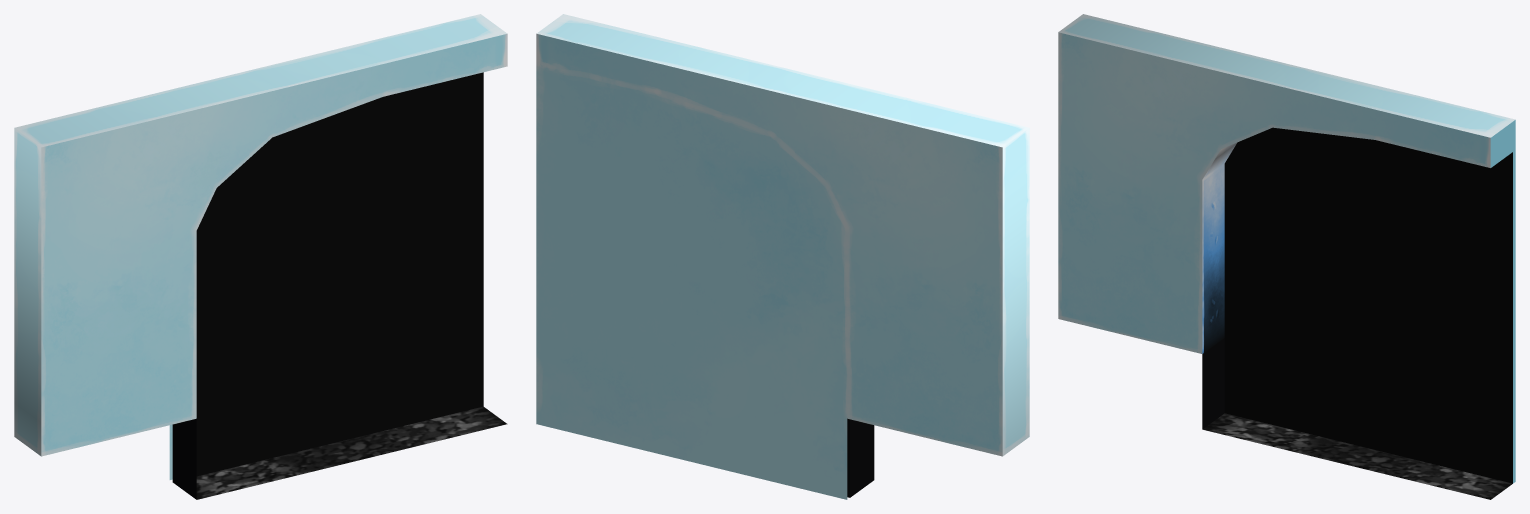
The model's file is tunnel_02.fbx.
The picture shows the model from 3 angles, left to right: view 1: azimuth 30°, elevation 25°; view 2: azimuth 150°, elevation 25°; view 3: azimuth 330°, elevation 25°; orthographic projection. The views are drawn at different scales.
Parts seen in each view (by area): view 1: tunnel; view 2: tunnel; view 3: tunnel.
Boxes of the visible parts, <box> form: tunnel: <box>14,14,507,499</box>; tunnel: <box>536,14,1029,499</box>; tunnel: <box>1058,14,1515,499</box>.
Size of the model in its own units: 3 by 2.4 by 0.3.
